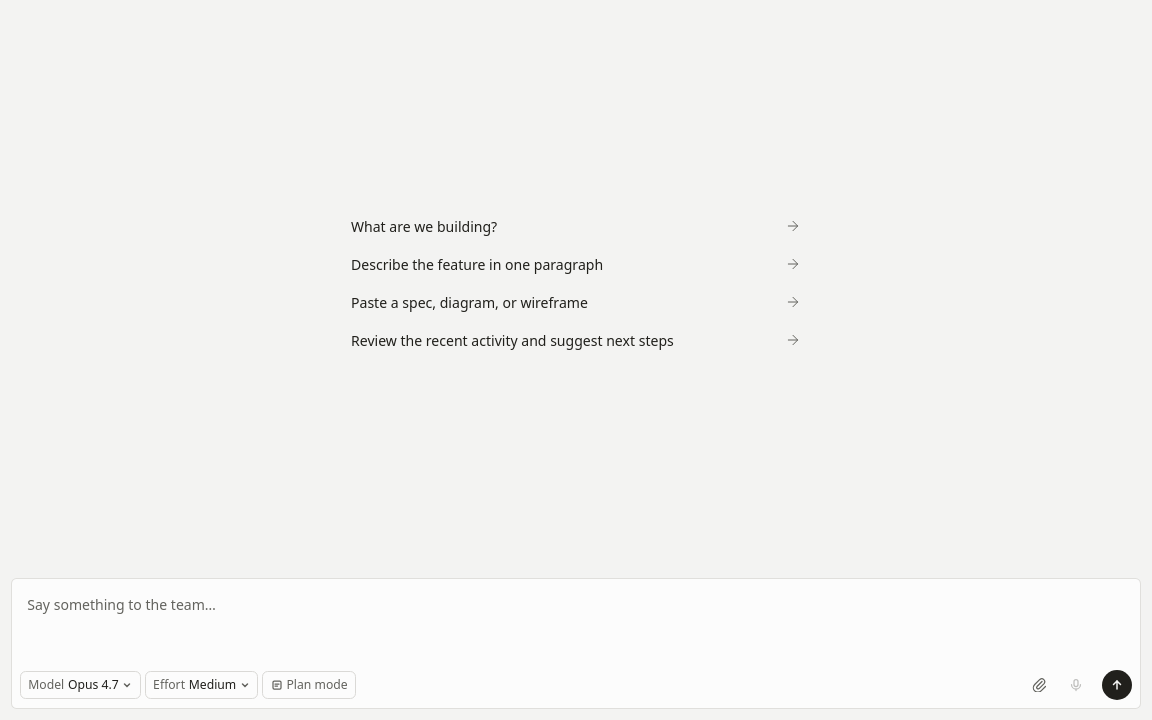
WorkspaceThread → ipcClient.postMessage › restores the draft and surfaces an alert when postMessage rejects
Type "do the thing" into the text box with class "compose__input" at (576, 625), box [20,586,1132,665]
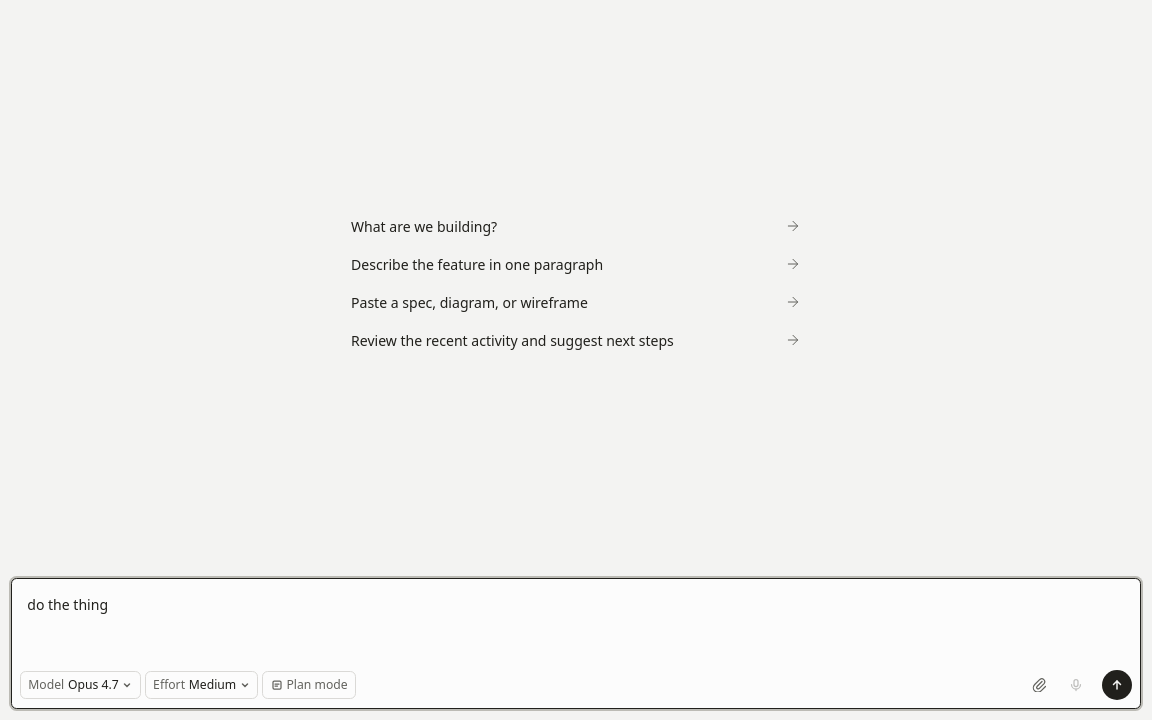
Click the button with class "btn-icon--primary" at (1117, 685), box [1102,670,1132,700]
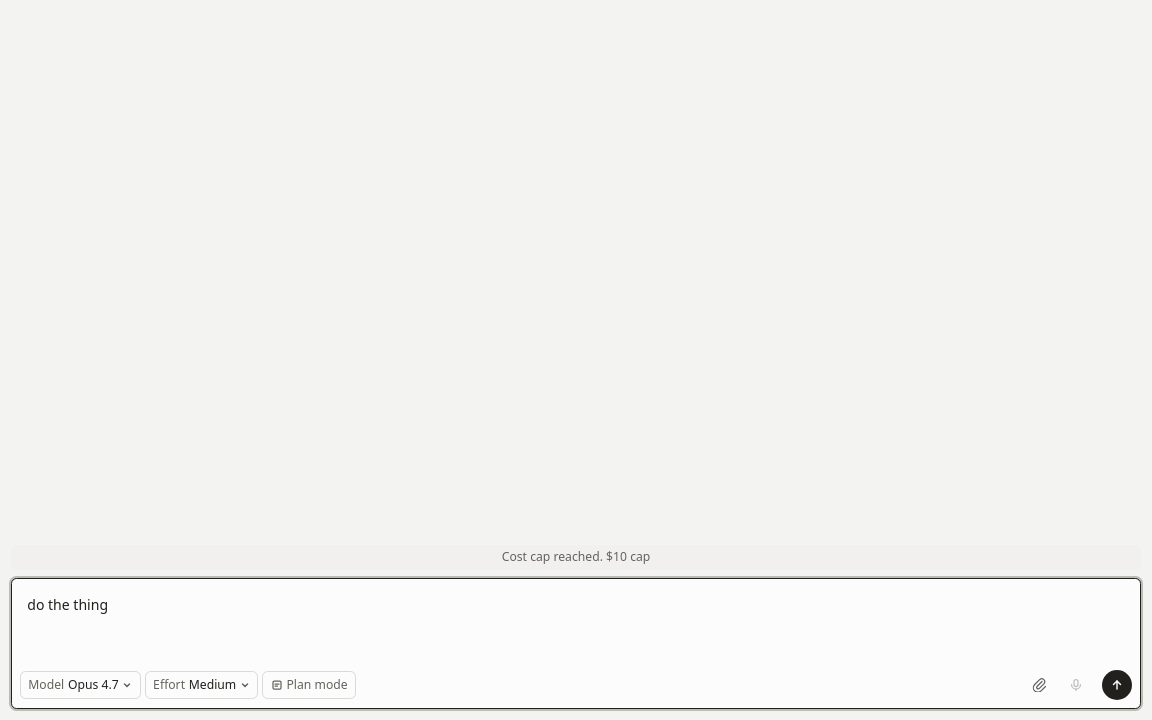
Check: the message shows "Cost cap reached", box [502,548,650,565]
Check: the message shows "$10 cap", box [502,548,650,565]
